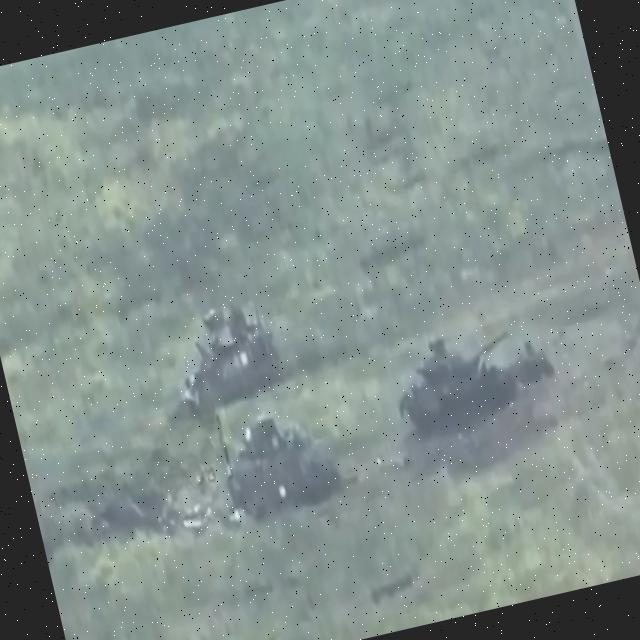AIFV: (214, 401, 343, 525), (162, 292, 289, 410)
MBT: (384, 317, 529, 440)
